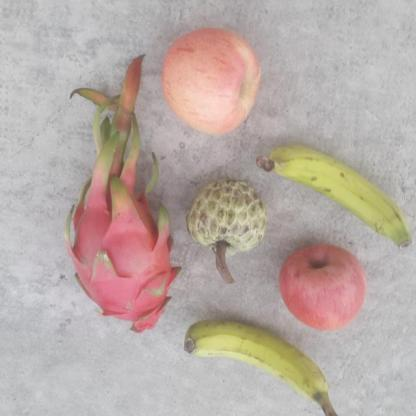annona: (183, 176, 269, 282)
apple: (163, 29, 262, 139), (279, 241, 373, 332)
banana: (268, 143, 416, 250), (182, 320, 343, 415)
pitaya: (61, 180, 189, 334)
